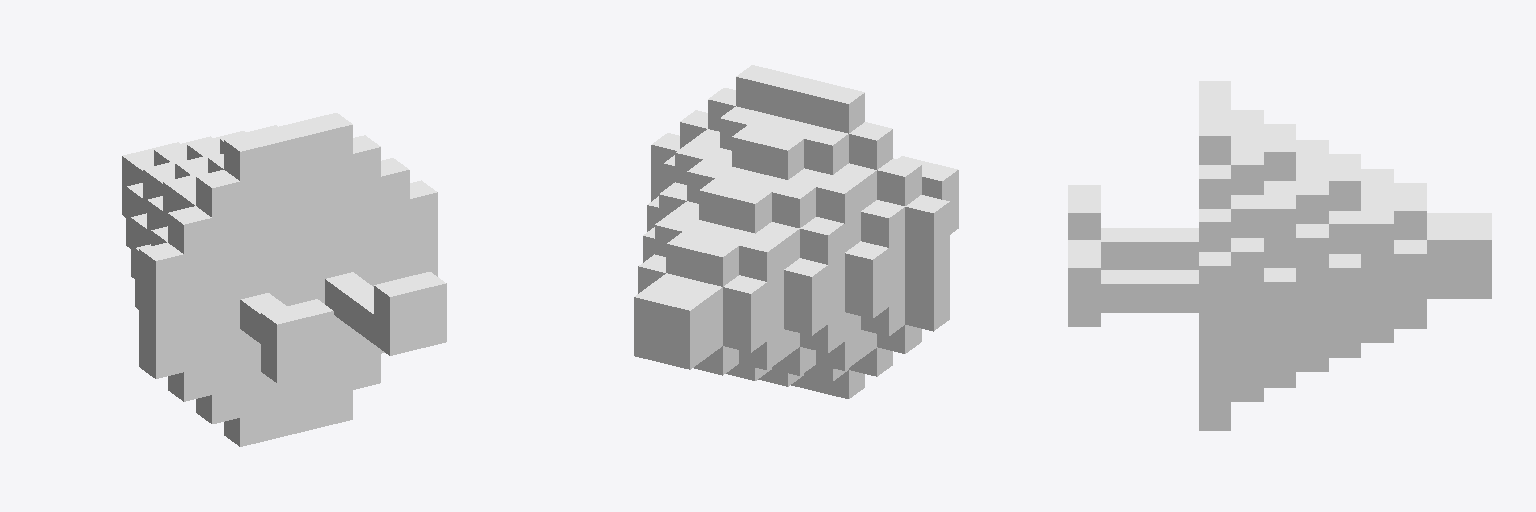
The model's file is ShootTheEnemy.obj.
3 renders of one model, left to right at view 1: azimuth 30°, elevation 25°; view 2: azimuth 150°, elevation 25°; view 3: azimuth 270°, elevation 25°, orthographic.
Visible parts, largest first — view 1: object 1; view 2: object 1; view 3: object 1.
Boxes of the visible parts, x1=… form: object 1: x1=122, y1=113, x2=446, y2=446; object 1: x1=634, y1=65, x2=958, y2=398; object 1: x1=1068, y1=81, x2=1491, y2=430.
Bounding box in the file's own units: 1 × 1 × 1.3.